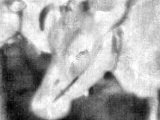eye: (75, 45, 92, 61)
